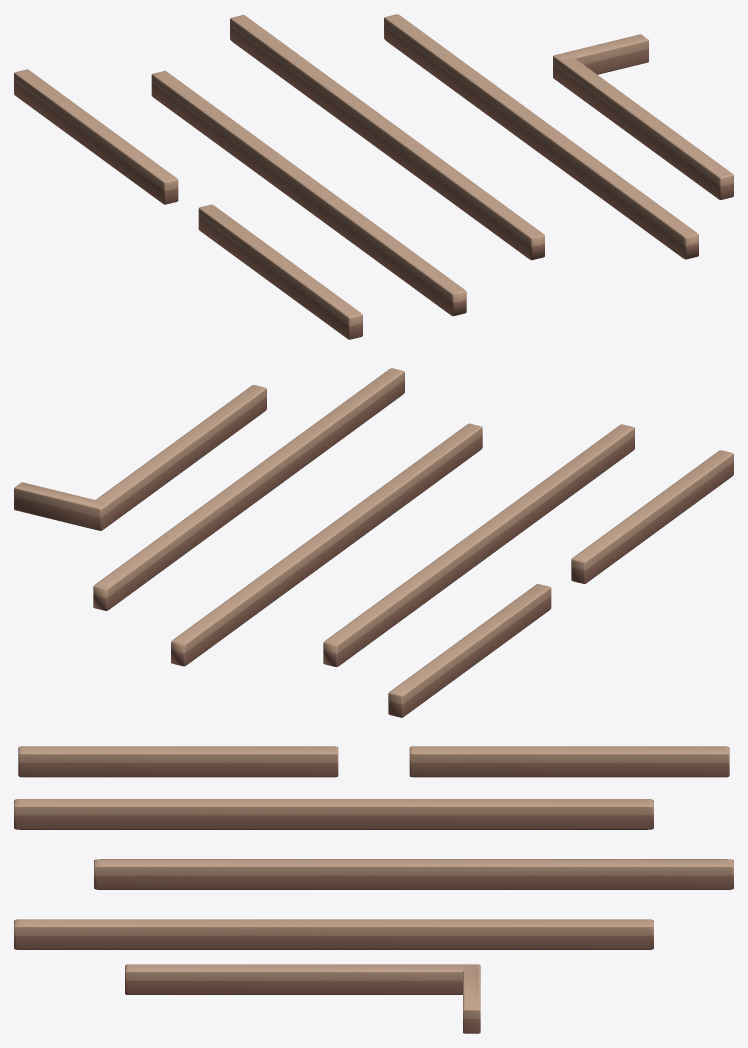
File: Props.fbx
The picture shows the model from 3 angles, top to bottom: view 1: azimuth 30°, elevation 25°; view 2: azimuth 150°, elevation 25°; view 3: azimuth 270°, elevation 25°; orthographic projection. The views are drawn at different scales.
Parts seen in each view (by area): view 1: Box20-3_1 (5), Box20-3_1 (2), Box20-3_1 (3), Box20-3_2 (7), Box20-3_1 (7), Box20-3_1 (6), Box20-3_1 (4); view 2: Box20-3_1 (5), Box20-3_1 (3), Box20-3_1 (2), Box20-3_2 (7), Box20-3_1 (6), Box20-3_1 (7), Box20-3_1 (4); view 3: Box20-3_1 (2), Box20-3_1 (3), Box20-3_1 (5), Box20-3_2 (7), Box20-3_1 (6), Box20-3_1 (7), Box20-3_1 (4).
Boxes of the visible parts, <box> form: Box20-3_1 (5): <box>151,71,466,316</box>; Box20-3_1 (2): <box>384,14,698,259</box>; Box20-3_1 (3): <box>230,15,544,260</box>; Box20-3_2 (7): <box>553,53,733,199</box>; Box20-3_1 (7): <box>198,204,362,339</box>; Box20-3_1 (6): <box>14,69,178,204</box>; Box20-3_1 (4): <box>554,34,648,74</box>; Box20-3_1 (5): <box>323,424,634,667</box>; Box20-3_1 (3): <box>171,423,482,666</box>; Box20-3_1 (2): <box>93,368,404,610</box>; Box20-3_2 (7): <box>89,385,266,530</box>; Box20-3_1 (6): <box>388,584,551,717</box>; Box20-3_1 (7): <box>571,450,733,583</box>; Box20-3_1 (4): <box>14,482,106,530</box>; Box20-3_1 (2): <box>14,919,653,949</box>; Box20-3_1 (3): <box>94,859,733,889</box>; Box20-3_1 (5): <box>14,799,653,829</box>; Box20-3_2 (7): <box>125,964,480,994</box>; Box20-3_1 (6): <box>409,746,729,777</box>; Box20-3_1 (7): <box>18,746,338,777</box>; Box20-3_1 (4): <box>463,965,480,1033</box>.
Bounding box in the file's own units: 35.1 × 1.5 × 40.5.
